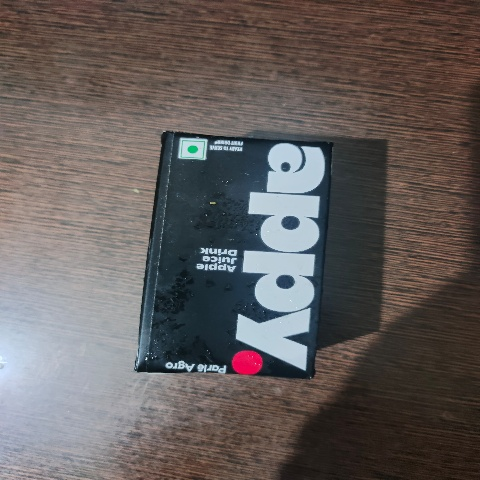appy: (126, 110, 330, 393)
